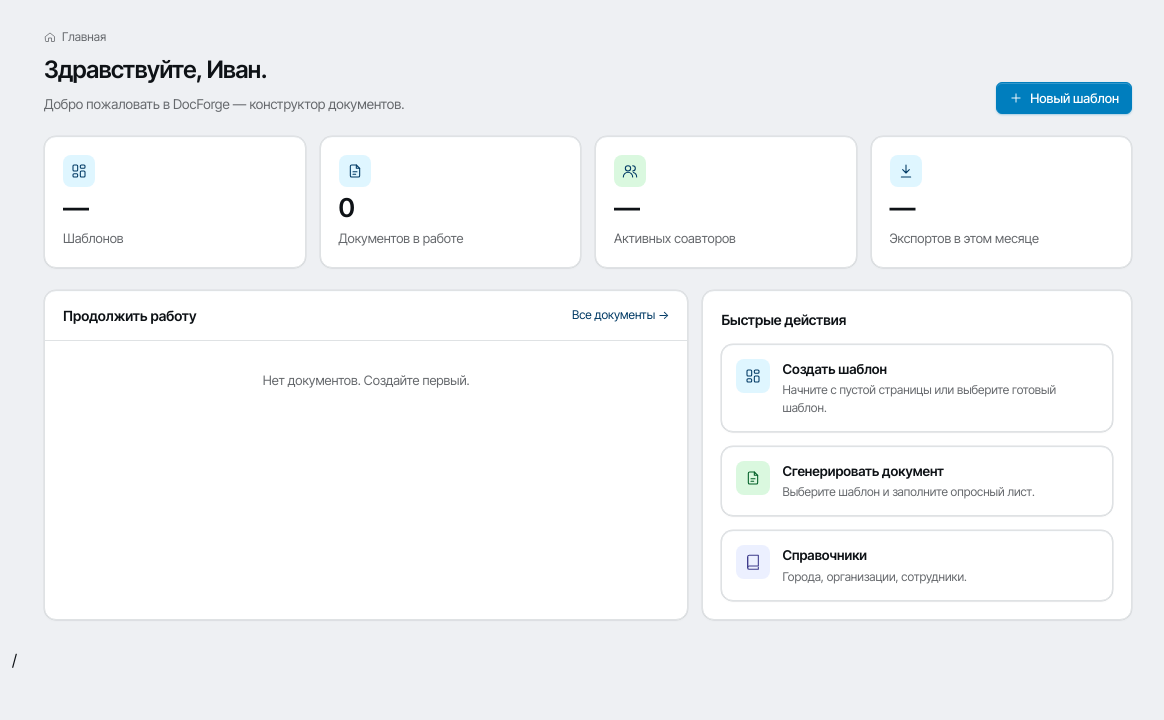
it: HomePage — DOCX import entry point removed (BUG-057) › navigates to /templates when the primary «Новый шаблон» button is clicked
Expected: the text with test id "location" reads "/", left=12, top=650, right=17, bottom=670
Click the button "Новый шаблон": [1064, 98] box left=996, top=82, right=1132, bottom=114
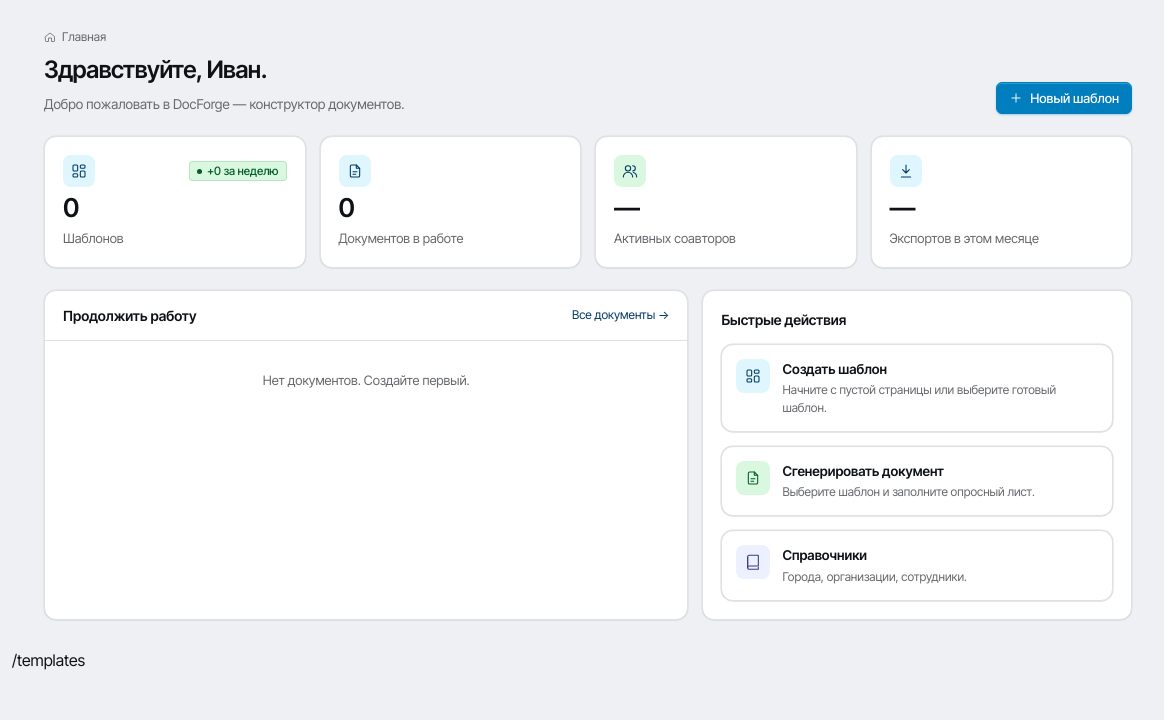
Expected: the text with test id "location" reads "/templates", left=12, top=650, right=85, bottom=670
